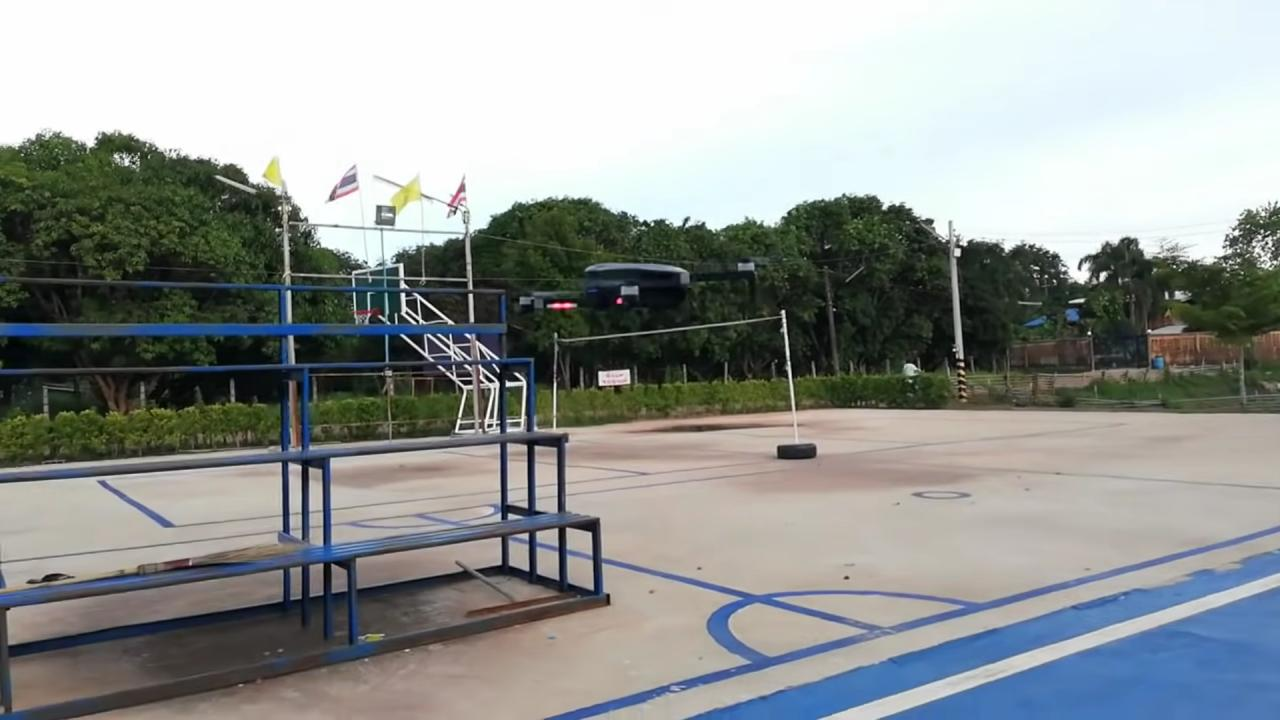Drone: (496, 247, 790, 333)
